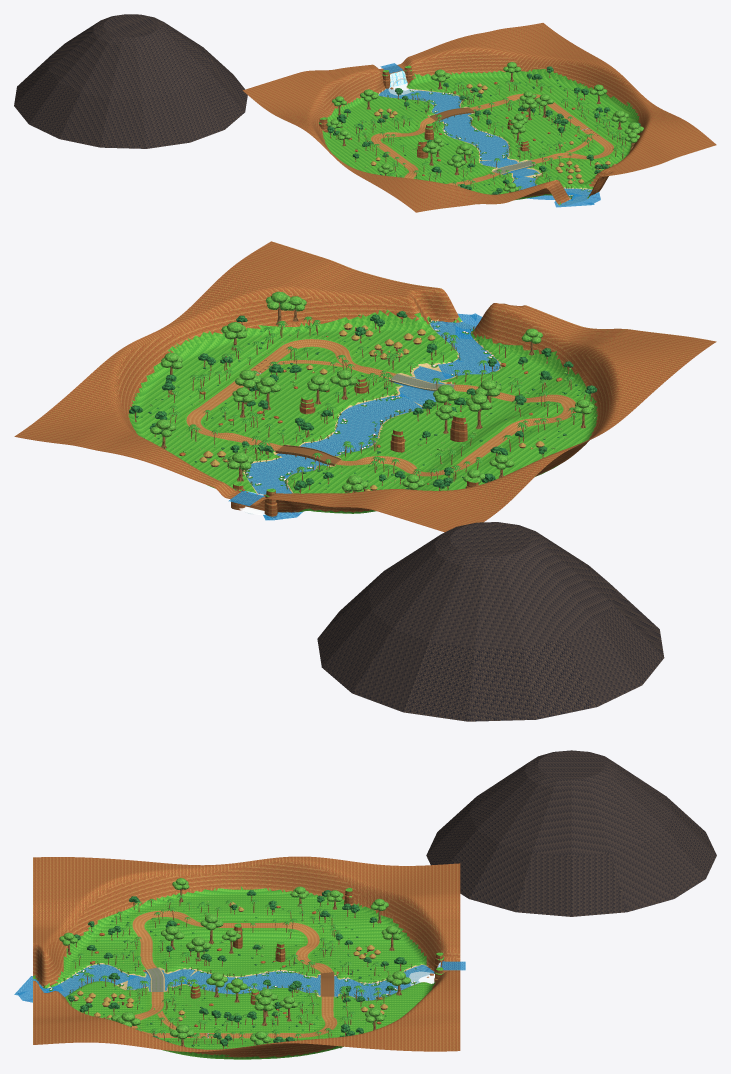
The picture shows the model from 3 angles, top to bottom: view 1: azimuth 30°, elevation 25°; view 2: azimuth 150°, elevation 25°; view 3: azimuth 270°, elevation 25°; orthographic projection. The views are drawn at different scales.
Visible parts, largest first — view 1: Valley, Far Volcano, River, River South, Road 03 road, Road 06 road, Road 01 road, River Ford, Road 04 road; view 2: Valley, Far Volcano, River, River South, Road 06 road, Road 03 road, Road 01 road, Road 04 road, River Ford; view 3: Valley, Far Volcano, River, River South, Road 03 road, Road 04 road, Road 01 road, Road 06 road, River Ford.
Boxes of the visible parts, box(x1,y1,x2,y2) form: Valley: box(242, 23, 716, 212); Far Volcano: box(14, 14, 247, 148); River: box(378, 88, 509, 159); River South: box(513, 175, 600, 207); Road 03 road: box(370, 116, 435, 165); Road 06 road: box(531, 128, 614, 163); Road 01 road: box(469, 93, 589, 130); River Ford: box(480, 155, 539, 178); Road 04 road: box(402, 163, 501, 186); Valley: box(14, 241, 716, 532); Far Volcano: box(317, 522, 664, 721); River: box(245, 392, 423, 520); River South: box(430, 313, 500, 378); Road 06 road: box(248, 338, 397, 379); Road 03 road: box(335, 432, 514, 476); Road 01 road: box(185, 373, 283, 451); Road 04 road: box(453, 384, 576, 434); River Ford: box(390, 366, 454, 405); Valley: box(33, 856, 460, 1059); Far Volcano: box(426, 750, 716, 916); River: box(180, 965, 434, 1000); River South: box(14, 964, 137, 1002); Road 03 road: box(218, 921, 334, 973); Road 04 road: box(131, 910, 218, 969); Road 01 road: box(208, 996, 338, 1038); Road 06 road: box(131, 992, 207, 1038); River Ford: box(127, 969, 194, 991).
Bounding box in the file's own units: 780 × 117 × 822.
33 materials, 33 textured.
